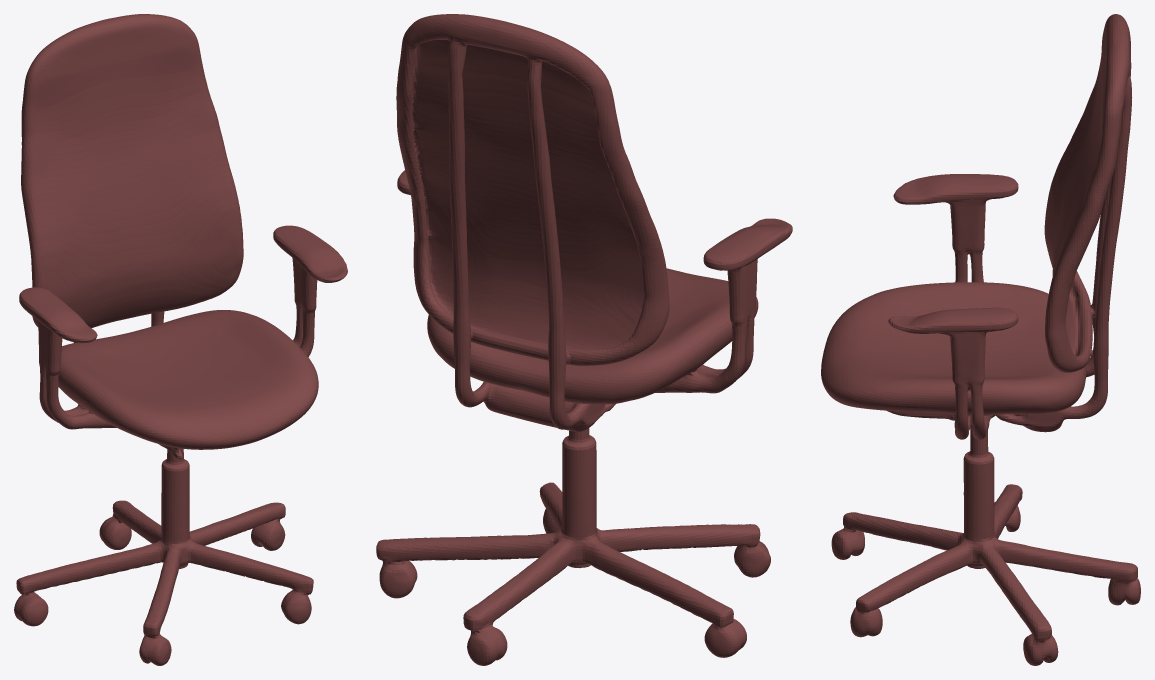
3 renders of one model, left to right at view 1: azimuth 30°, elevation 25°; view 2: azimuth 150°, elevation 25°; view 3: azimuth 270°, elevation 25°, orthographic. The views are drawn at different scales.
Parts seen in each view (by area): view 1: tmp2u1ik2vgply; view 2: tmp2u1ik2vgply; view 3: tmp2u1ik2vgply.
Part boxes in pixels (x1,y1,x2,y2): tmp2u1ik2vgply: (14,14,347,665); tmp2u1ik2vgply: (376,14,792,665); tmp2u1ik2vgply: (821,14,1140,665).
Size of the model in its own units: 1.12 by 1.96 by 1.01.
